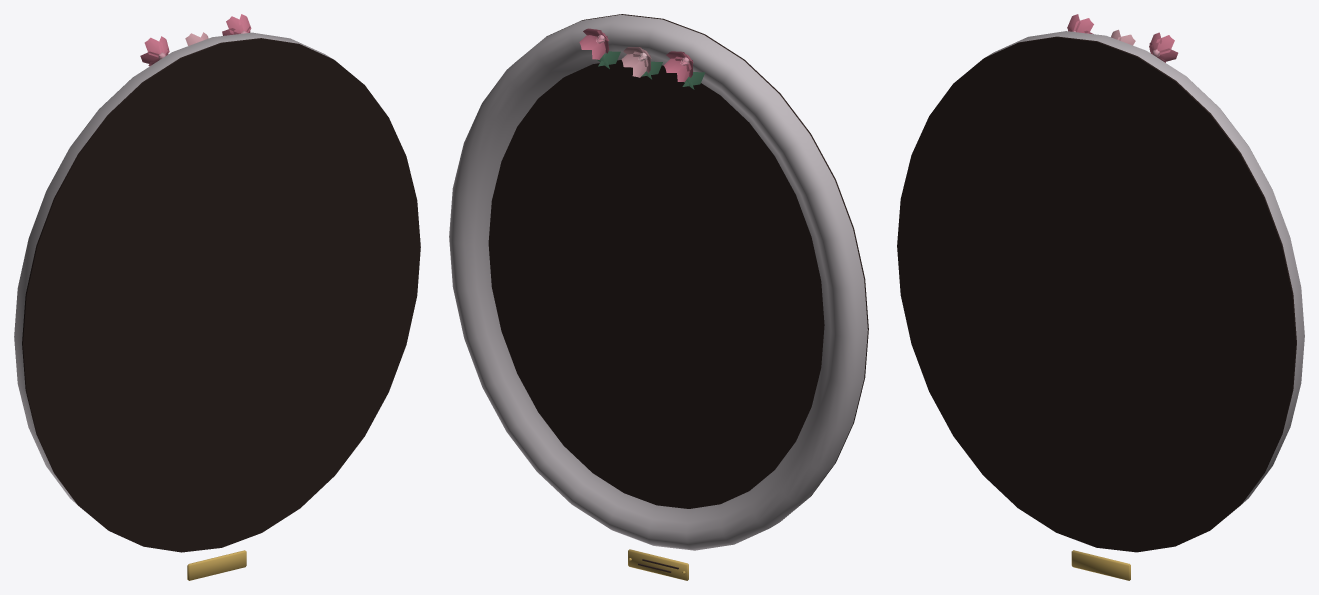
File: pearl_roses_oval_p.glb
The picture shows the model from 3 angles, left to right: view 1: azimuth 30°, elevation 25°; view 2: azimuth 150°, elevation 25°; view 3: azimuth 330°, elevation 25°; orthographic projection. The views are drawn at different scales.
Visible parts, largest first — view 1: pearl_roses_oval_p; view 2: pearl_roses_oval_p; view 3: pearl_roses_oval_p.
Part boxes in pixels (box(x1,y1,x2,y2)): pearl_roses_oval_p: box(14, 14, 420, 580); pearl_roses_oval_p: box(449, 14, 868, 580); pearl_roses_oval_p: box(897, 14, 1304, 580).
Size of what is drawn, in the model's own units: 0.9485 by 1.22 by 0.1094.
